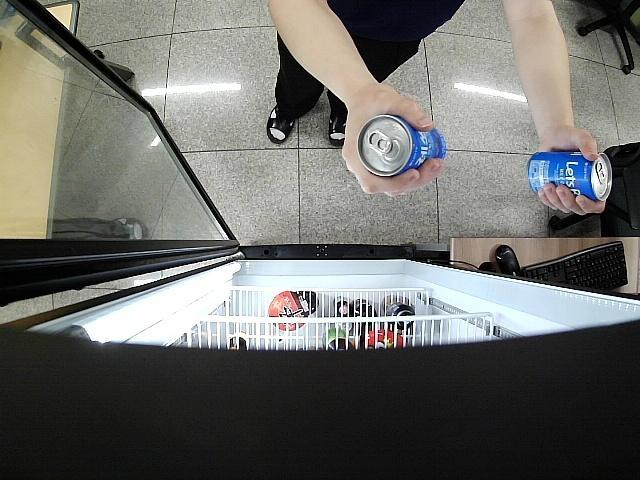15_letsbe: (358, 114, 447, 177), (528, 152, 612, 202)
